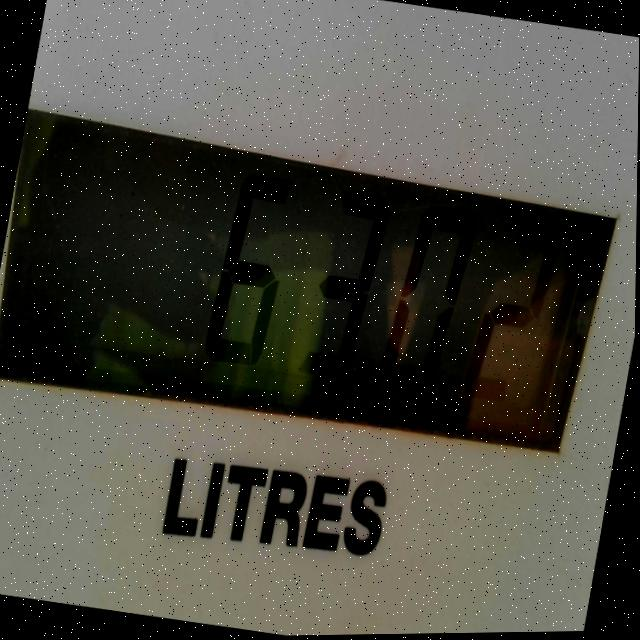.: (332, 328, 390, 429)
0: (366, 187, 493, 419)
2: (455, 212, 572, 418)
3: (287, 174, 408, 414)
6: (181, 160, 307, 401)
